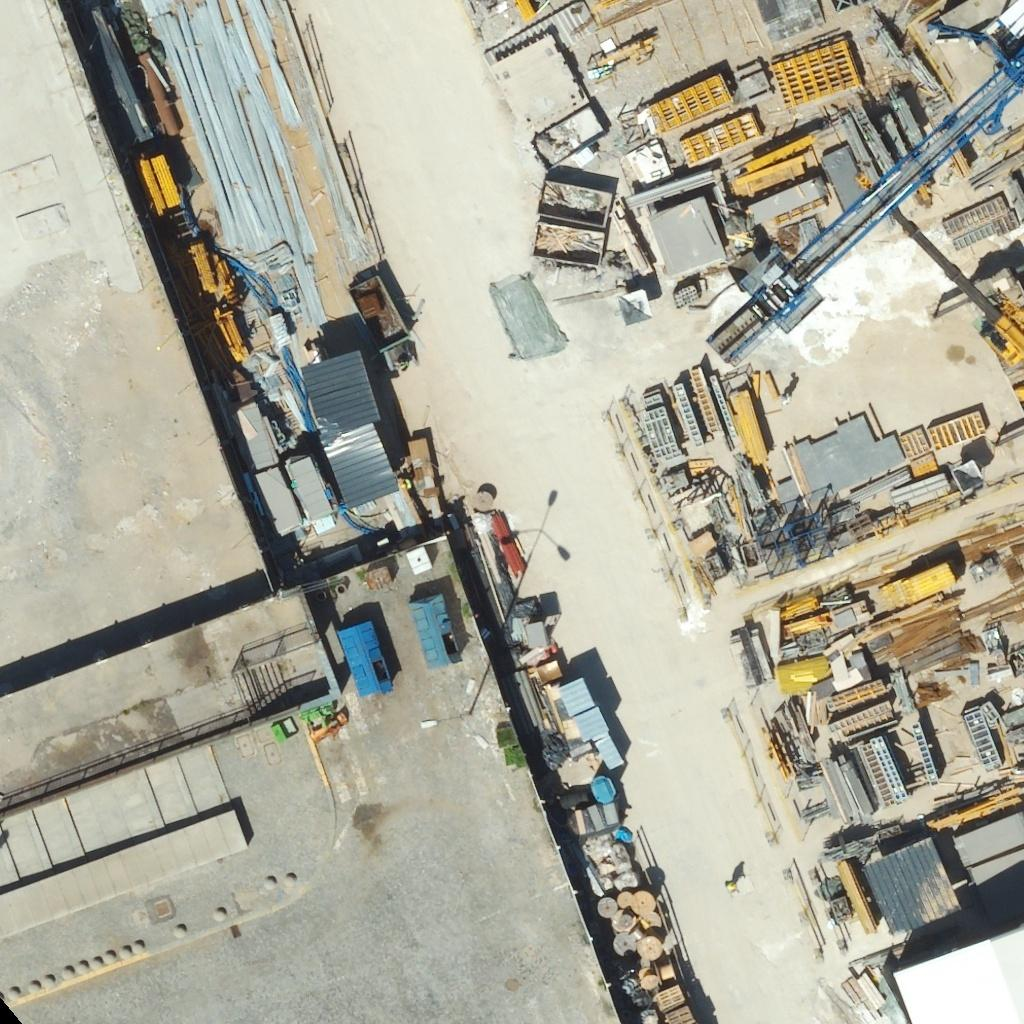zuraw_wiezowy: (684, 23, 1024, 377)
